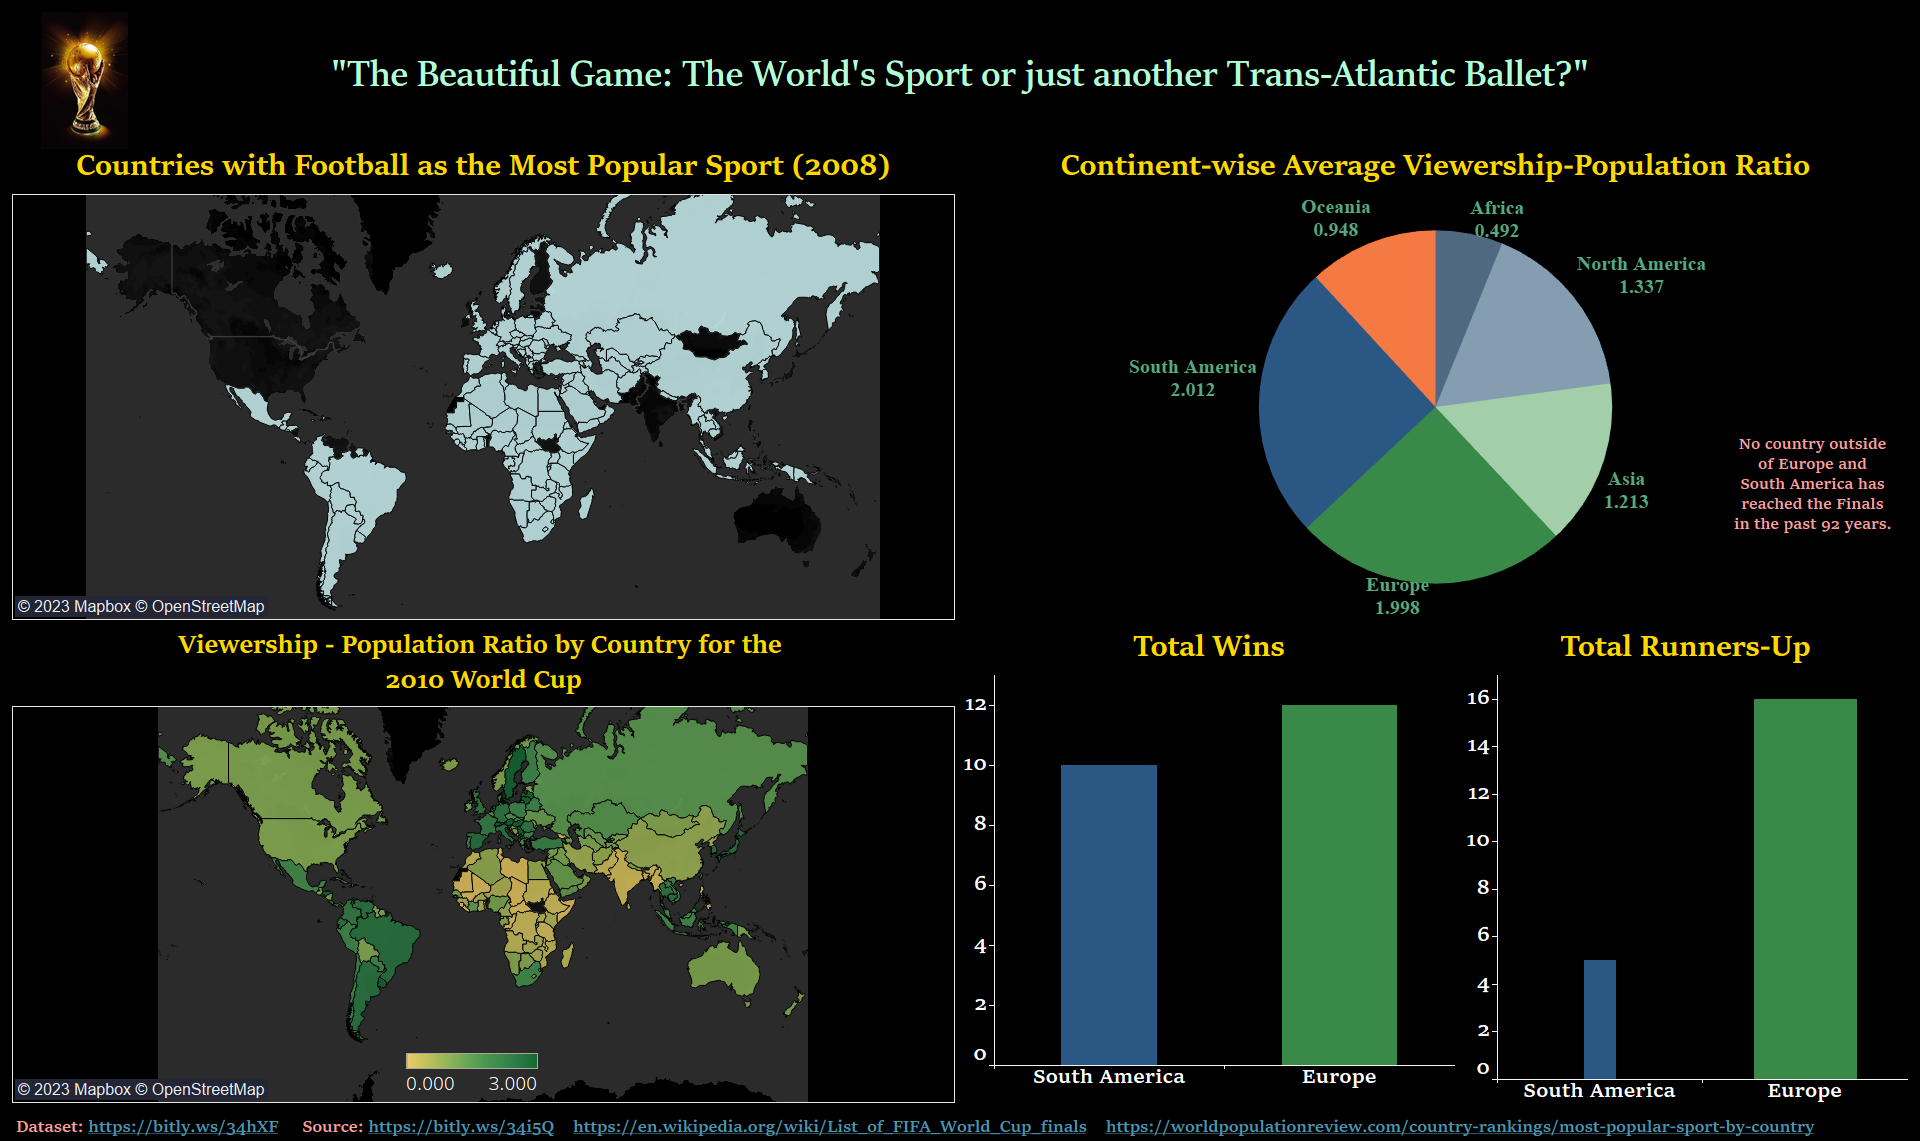

The dashboard page shown, as its layout file describes it:
{"tool":"tableau","page":{"name":"FIFA World Cup","canvas":[1000,1000],"units":"permille","ordinal":0},"visuals":[{"type":"text","box":[5,8.6,990,116.6]},{"type":"worksheet","title":"Most Popular Sport","mark":"Multipolygon","box":[5,125.2,494.2,415]},{"type":"worksheet","title":"Viewership Distribution","mark":"Pie","box":[499.2,125.2,495.8,415]},{"type":"text","box":[900.9,360.7,86,117.7]},{"type":"worksheet","title":"Magnitude","mark":"Multipolygon","box":[5,540.2,494.2,416.4]},{"type":"worksheet","title":"Total Wins","mark":"Bar","rows":["wins"],"cols":["region"],"box":[499.2,540.2,260.2,416.4]},{"type":"worksheet","title":"Total Runners-Up","mark":"Bar","rows":["runners-up"],"cols":["region"],"box":[759.5,540.2,235.6,416.4]},{"type":"legend","title":"Magnitude","param":"[federated.1wj11sq0iee04h16c2gxb0mvjl2a].[sum:magnitude:qk]","box":[209.4,908.3,72.9,39.2]},{"type":"text","box":[5,956.6,990,34.8]}]}

Visuals, with their boxes on the dashboard's canvas, which has no fixed pixel size, in thousandths of its width and height (x1, y1, x2, y2). These are canvas units, not pixel positions in the 1920x1141 screenshot, which may show the page scaled, cropped or inside an application window:
text: locate(5, 9, 995, 125)
"Most Popular Sport" worksheet (Multipolygon marks): locate(5, 125, 499, 540)
"Viewership Distribution" worksheet (Pie marks): locate(499, 125, 995, 540)
text: locate(901, 361, 987, 478)
"Magnitude" worksheet (Multipolygon marks): locate(5, 540, 499, 957)
"Total Wins" worksheet (Bar marks): locate(499, 540, 759, 957)
"Total Runners-Up" worksheet (Bar marks): locate(760, 540, 995, 957)
"Magnitude" legend: locate(209, 908, 282, 948)
text: locate(5, 957, 995, 991)
